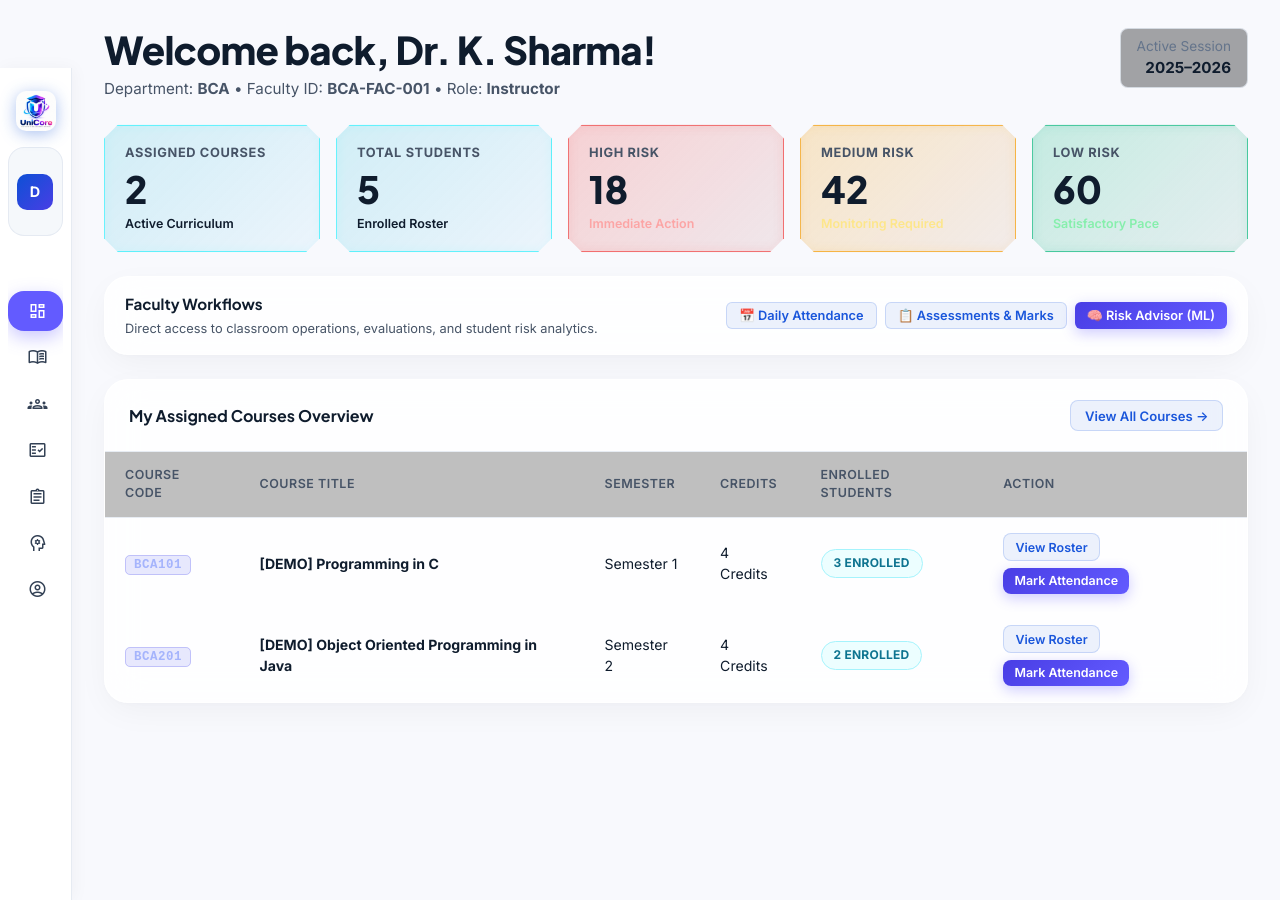
Test case: Faculty Portal Components & Shell (Parts 5.2 & 5.3) › 19. FacultyLayout navigates from Dashboard to Risk Advisor and returns to Dashboard via ← Back button
The width and height of the screenshot is (1280, 900).
Expected: the heading "Welcome back, Dr. K. Sharma!" is shown, [104,28,656,72]
// Navigate to Risk Advisor via sidebar nav item
Click the button titled "Risk Advisor (ML)" at (36, 543), box [8,523,63,563]
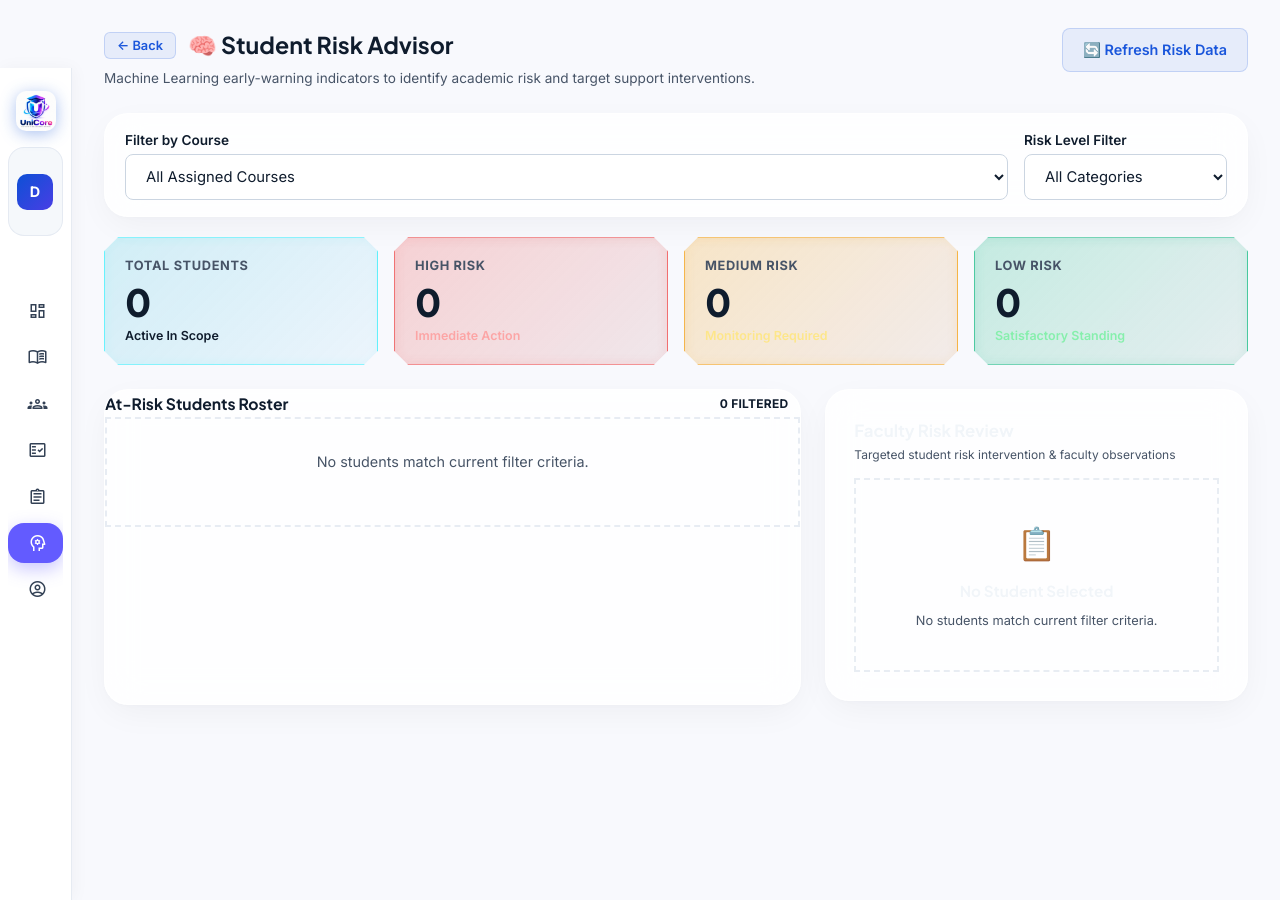
Now the heading "🧠 Student Risk Advisor" is shown, box [188,28,454,63]
// Click "← Back" button
Click the button "← Back" at (140, 45), box [104,32,176,59]
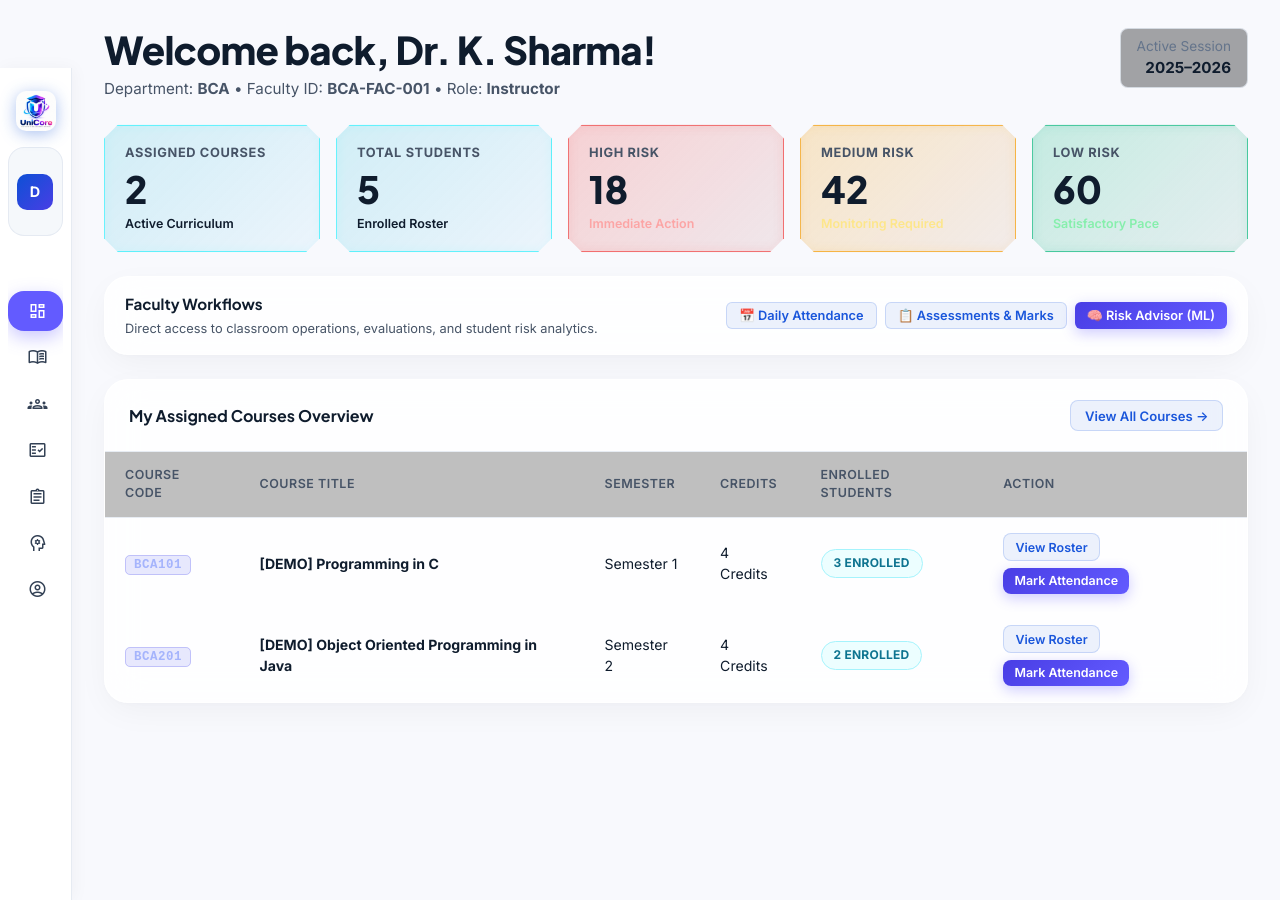
Now the heading "Welcome back, Dr. K. Sharma!" is shown, box [104,28,656,72]
